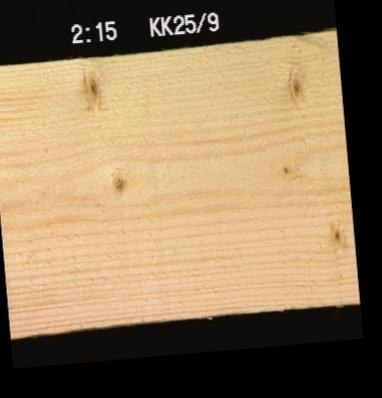small_knot: (284, 63, 306, 106), (325, 217, 347, 250), (276, 160, 292, 177)
sound_knot: (78, 66, 104, 110), (108, 170, 127, 195)
